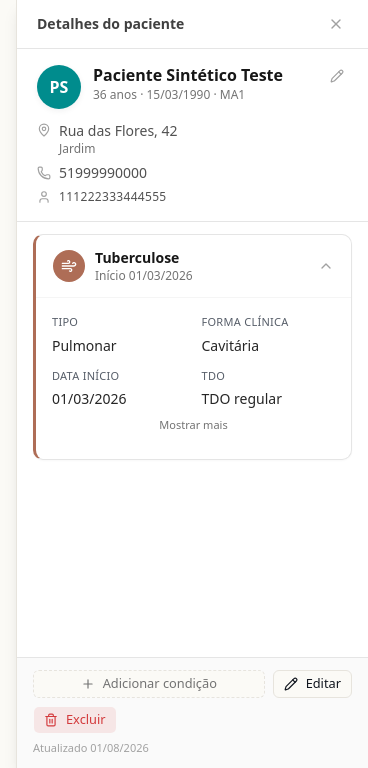
Test: PatientDetailPanel › surfaces tuberculose full-parity fields under 'Mostrar mais'
Expected: the text "PPD (mm)" is not shown
Click the button "Mostrar mais" at (193, 425), box [159,417,228,433]
(page scrolled)
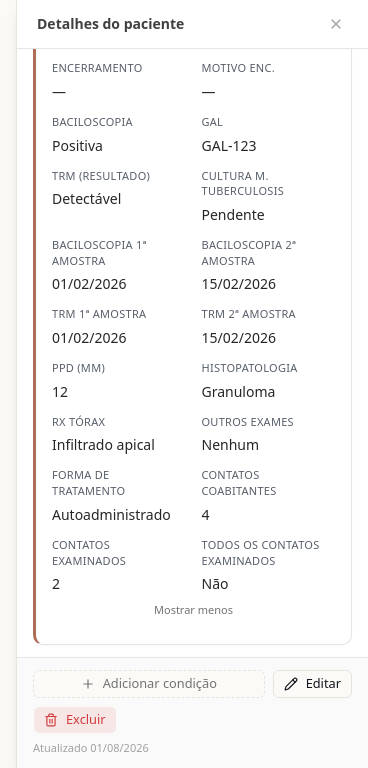
Expected: the text "PPD (mm)" is shown, [52,360,105,375]
Expected: the text "Histopatologia" is shown, [202,360,298,375]
Expected: the text "Granuloma" is shown, [202,382,275,401]
